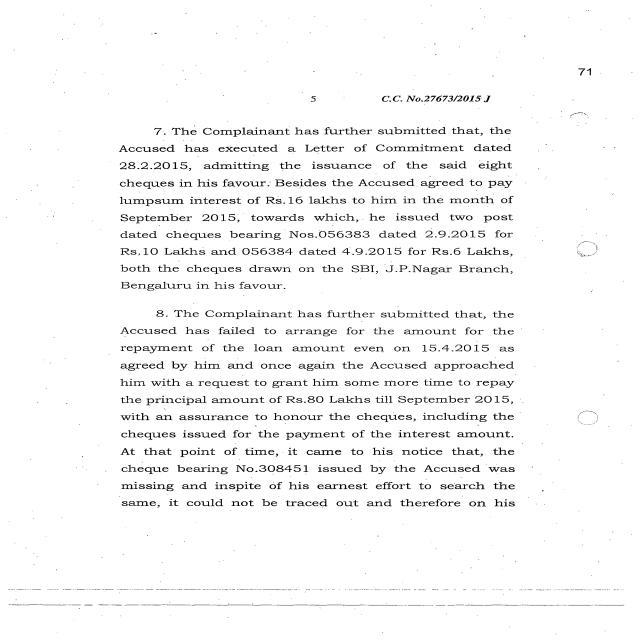page-number: (492, 15, 640, 110)
